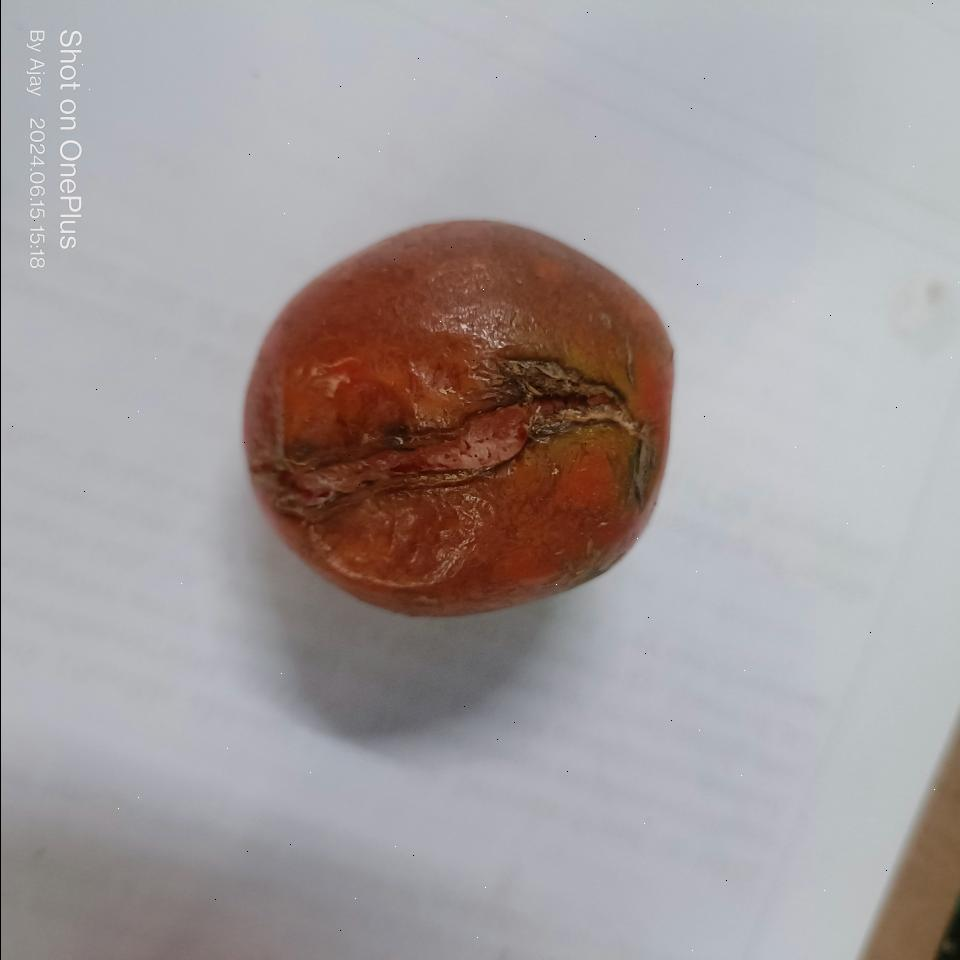Cracking: (263, 351, 650, 507)
